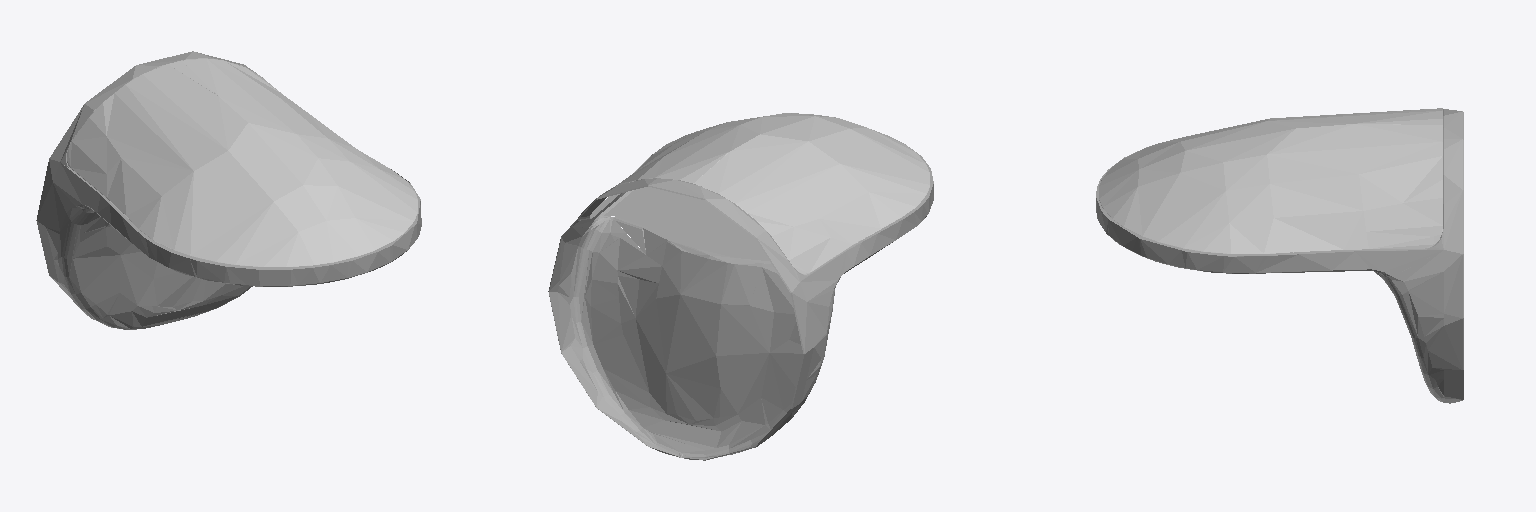
File: arm-L1-mirror.obj
3 renders of one model, left to right at view 1: azimuth 30°, elevation 25°; view 2: azimuth 150°, elevation 25°; view 3: azimuth 270°, elevation 25°, orthographic.
Visible parts, largest first — view 1: __TMPOBJ_____TMPMESH__.060; view 2: __TMPOBJ_____TMPMESH__.060; view 3: __TMPOBJ_____TMPMESH__.060.
Part boxes in pixels (left/top/right/bottom): __TMPOBJ_____TMPMESH__.060: left=36, top=51, right=421, bottom=329; __TMPOBJ_____TMPMESH__.060: left=548, top=113, right=933, bottom=460; __TMPOBJ_____TMPMESH__.060: left=1096, top=108, right=1463, bottom=403.
Size of the model in its own units: 0.074 by 0.0739 by 0.092.